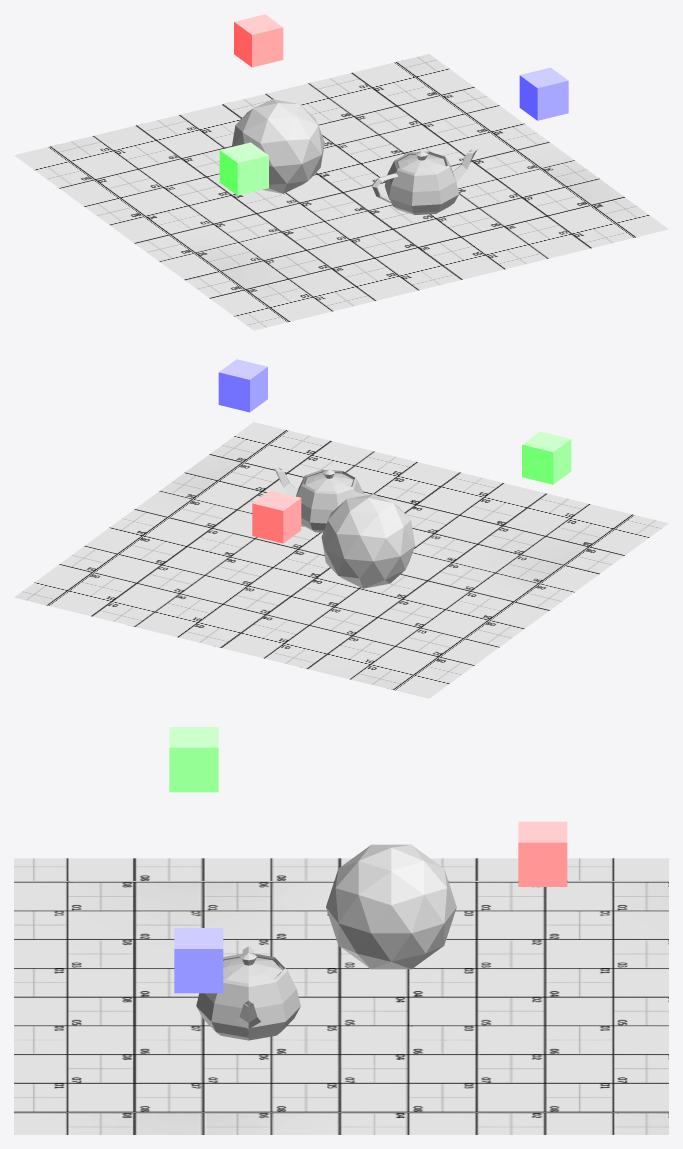
File: EmissiveTest.glb
3 views of the same model, one above another, from view 1: azimuth 30°, elevation 25°; view 2: azimuth 150°, elevation 25°; view 3: azimuth 270°, elevation 25° (orthographic). The views are drawn at different scales.
Visible parts, largest first — view 1: floor, Icosphere, Teapot, lightCube, lightCube.001, lightCube.002; view 2: floor, Icosphere, Teapot, lightCube, lightCube.002, lightCube.001; view 3: floor, Icosphere, Teapot, lightCube.002, lightCube, lightCube.001.
Part boxes in pixels (bbox=[...]): floor: bbox=[14, 54, 668, 330]; Icosphere: bbox=[232, 99, 324, 193]; Teapot: bbox=[372, 149, 478, 215]; lightCube: bbox=[519, 67, 568, 120]; lightCube.001: bbox=[234, 14, 283, 67]; lightCube.002: bbox=[219, 142, 268, 195]; floor: bbox=[14, 422, 668, 698]; Icosphere: bbox=[321, 494, 415, 588]; Teapot: bbox=[272, 467, 367, 532]; lightCube: bbox=[218, 359, 267, 412]; lightCube.002: bbox=[522, 431, 571, 484]; lightCube.001: bbox=[252, 490, 301, 543]; floor: bbox=[14, 858, 668, 1134]; Icosphere: bbox=[326, 844, 456, 969]; Teapot: bbox=[196, 946, 300, 1040]; lightCube.002: bbox=[169, 727, 218, 792]; lightCube: bbox=[174, 928, 223, 993]; lightCube.001: bbox=[518, 821, 567, 886].
Size of the model in its own units: 2 by 0.5336 by 2.
6 materials, 1 textured.
